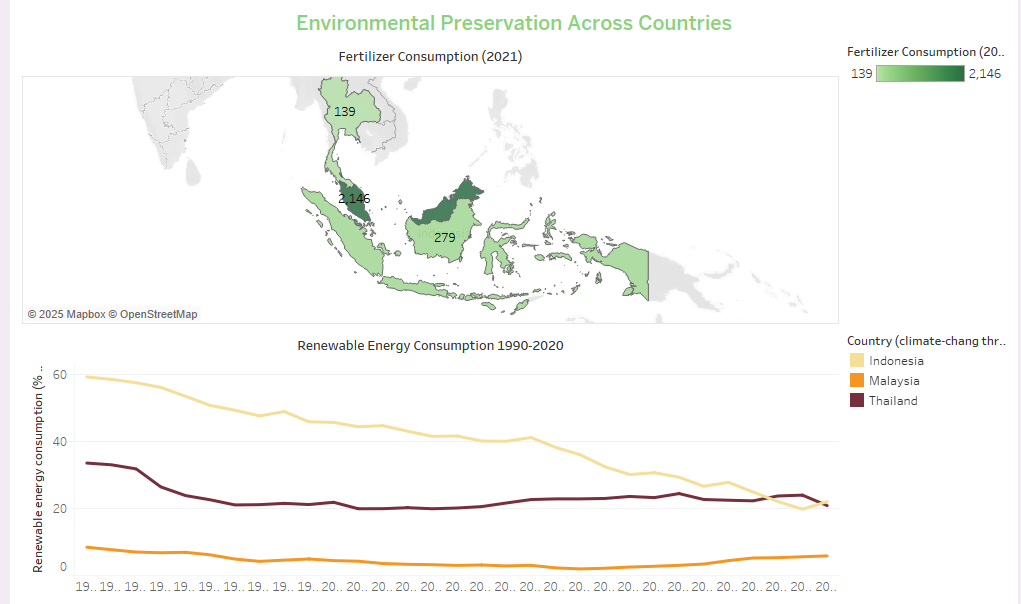

Layout of this report page (visuals, bound fields, positions):
{"tool":"tableau","page":{"name":"Dashboard 3","canvas":[1000,1000],"units":"permille","ordinal":2},"visuals":[{"type":"title","box":[6.7,14.7,986.6,58.8]},{"type":"worksheet","title":"Fertilizer Consumption (2021)","mark":"Automatic","box":[6.7,73.5,846.9,455.9]},{"type":"legend","title":"Fertilizer Consumption (2021)","param":"[federated.0caafp70hg8x5p1di2bq116lluuw].[sum:Fertilizer Consumption (2021) kg/h","box":[853.6,73.5,139.8,119.5]},{"type":"worksheet","title":"Renewable energy consumption 1990-2020","mark":"Automatic","rows":["Value"],"cols":["Year (climate-chang three countries E)"],"box":[6.7,529.4,846.9,455.9]},{"type":"legend","title":"Renewable energy consumption 1990-2020","param":"[federated.0caafp70hg8x5p1di2bq116lluuw].[none:Country (climate-chang three coun","box":[853.6,529.4,139.8,158.1]}]}

Visuals, with their boxes on the dashboard's canvas, which has no fixed pixel size, in thousandths of its width and height (x1, y1, x2, y2). These are canvas units, not pixel positions in the 1021x604 screenshot, which may show the page scaled, cropped or inside an application window:
title: [7,15,993,74]
"Fertilizer Consumption (2021)" worksheet: [7,74,854,529]
"Fertilizer Consumption (2021)" legend: [854,74,993,193]
"Renewable energy consumption 1990-2020" worksheet: [7,529,854,985]
"Renewable energy consumption 1990-2020" legend: [854,529,993,688]
